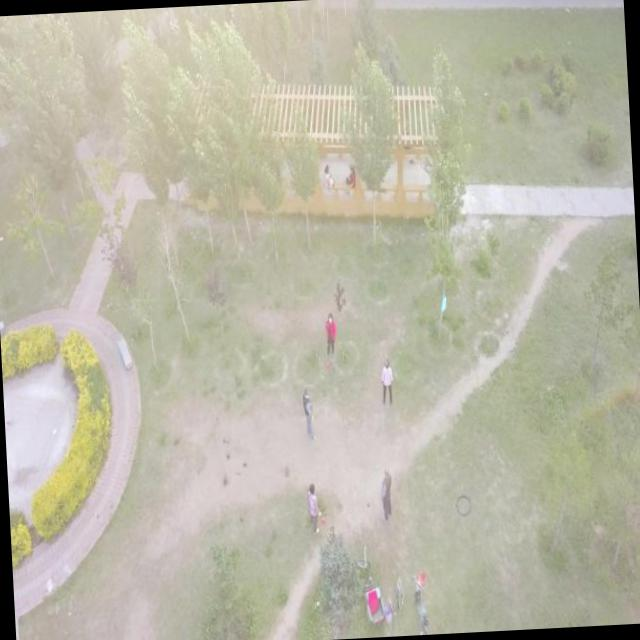person: (379, 466, 394, 522), (307, 484, 323, 535), (302, 386, 316, 440), (380, 358, 395, 406), (324, 312, 338, 357)
